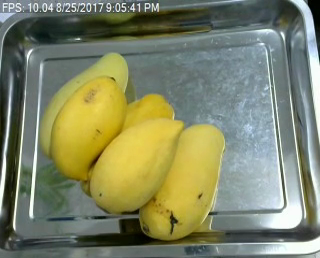Mango: (135, 120, 230, 240), (37, 52, 130, 158), (92, 113, 187, 211), (47, 75, 128, 180), (115, 93, 173, 134)
